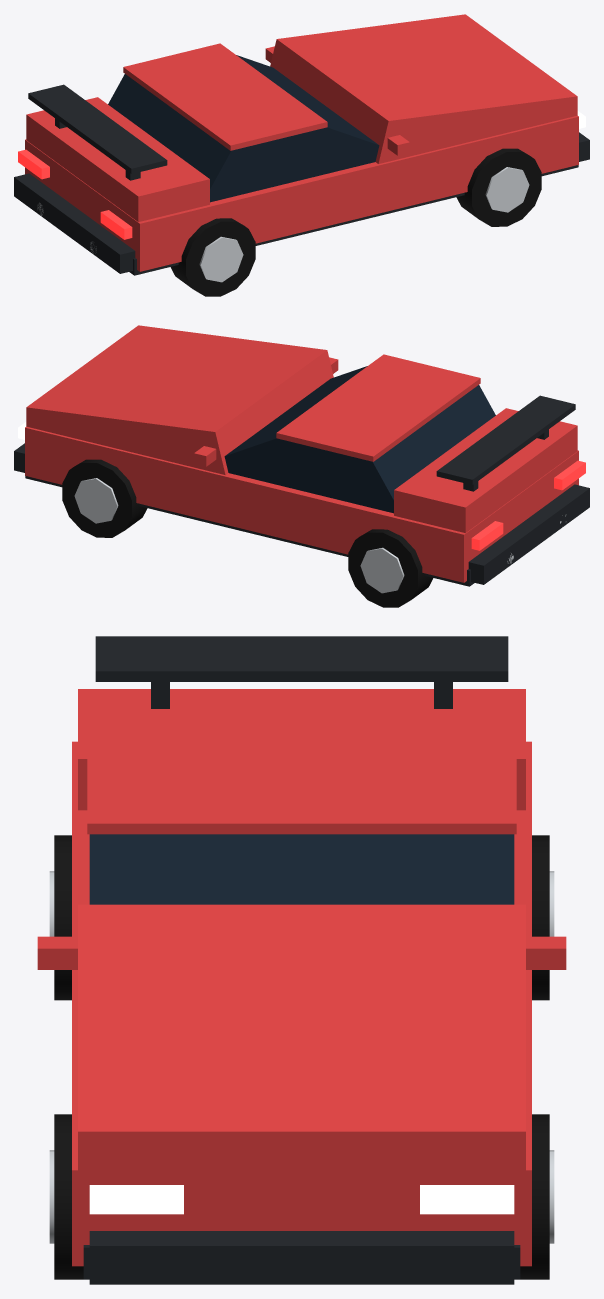
Rendered from sports.glb.
The picture shows the model from 3 angles, top to bottom: view 1: azimuth 30°, elevation 25°; view 2: azimuth 150°, elevation 25°; view 3: azimuth 270°, elevation 25°; orthographic projection. The views are drawn at different scales.
Parts seen in each view (by area): view 1: Hood, Body, Cabin, Roof, Wheel (×2), RearDeck, Spoiler, Bumper, Taillight (×2), Skirt, Sports_Coupe; view 2: Hood, Body, Cabin, Roof, Wheel (×2), RearDeck, Spoiler, Bumper, Taillight (×2), Skirt, Sports_Coupe; view 3: Hood, Roof, Body, Cabin, Bumper, Spoiler, RearDeck, Wheel (×4), Headlight (×2), Sports_Coupe.
Part boxes in pixels (left/top/right/bottom): Hood: left=270, top=14, right=577, bottom=163; Body: left=25, top=115, right=578, bottom=271; Cabin: left=108, top=55, right=379, bottom=202; Roof: left=123, top=43, right=327, bottom=150; Wheel (×2): left=170, top=148, right=541, bottom=296; RearDeck: left=26, top=97, right=209, bottom=221; Spoiler: left=28, top=84, right=167, bottom=173; Bumper: left=14, top=173, right=135, bottom=273; Taillight (×2): left=18, top=149, right=132, bottom=239; Skirt: left=129, top=165, right=578, bottom=275; Sports_Coupe: left=37, top=46, right=409, bottom=253; Hood: left=26, top=325, right=333, bottom=474; Body: left=25, top=426, right=578, bottom=582; Cabin: left=224, top=366, right=495, bottom=513; Roof: left=276, top=354, right=480, bottom=461; Wheel (×2): left=62, top=459, right=433, bottom=607; RearDeck: left=394, top=408, right=577, bottom=532; Spoiler: left=436, top=395, right=575, bottom=484; Bumper: left=468, top=484, right=589, bottom=584; Taillight (×2): left=471, top=460, right=585, bottom=550; Skirt: left=25, top=476, right=474, bottom=586; Sports_Coupe: left=194, top=357, right=566, bottom=563; Hood: left=78, top=904, right=525, bottom=1170; Roof: left=87, top=729, right=516, bottom=834; Body: left=72, top=741, right=531, bottom=1266; Cabin: left=89, top=834, right=514, bottom=904; Bumper: left=89, top=1231, right=514, bottom=1284; Spoiler: left=95, top=636, right=508, bottom=681; RearDeck: left=78, top=689, right=525, bottom=810; Wheel (×4): left=49, top=835, right=554, bottom=1279; Headlight (×2): left=89, top=1185, right=514, bottom=1214; Sports_Coupe: left=37, top=682, right=566, bottom=969.
Size of the model in its own units: 4.6 by 1.31 by 2.24.
